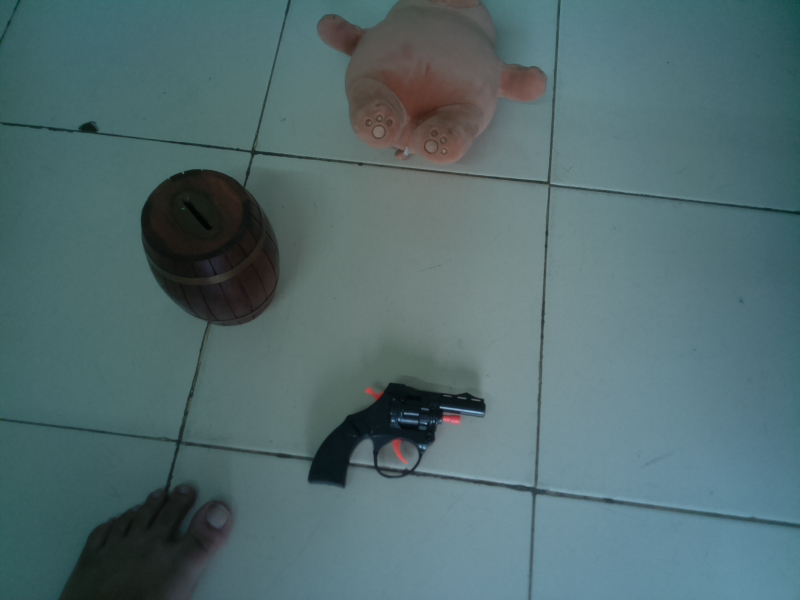Gun: (305, 378, 490, 494)
